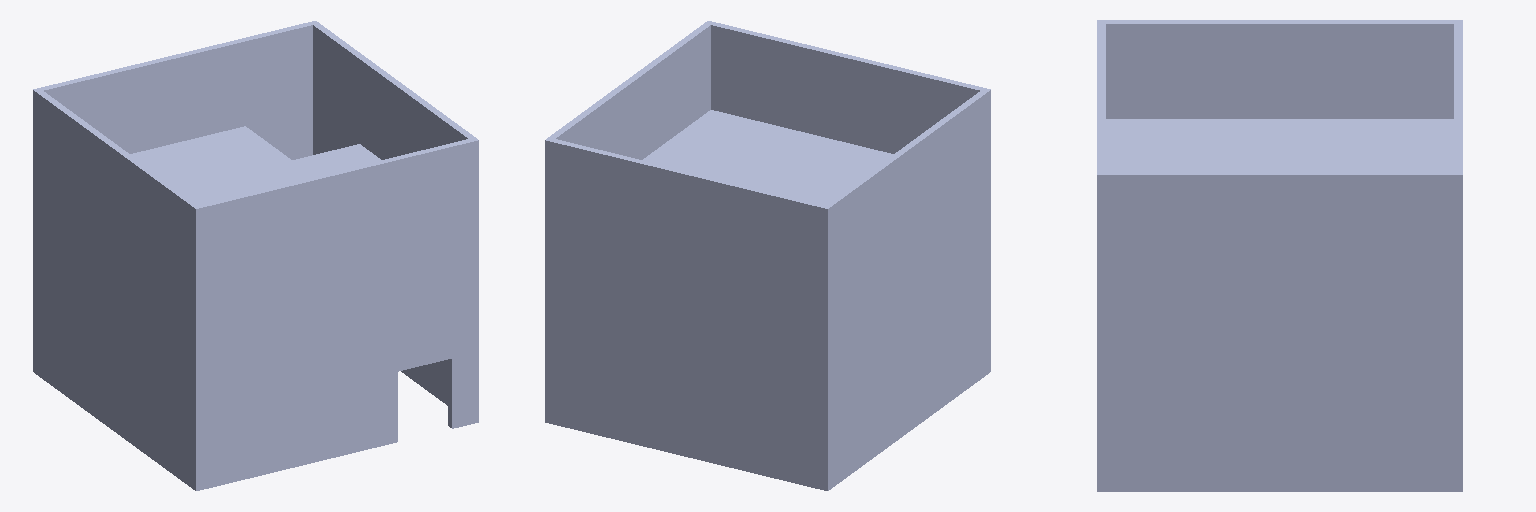
robot.urdf — flat_drone_env.SLDPRT:
<?xml version="1.0" encoding="utf-8"?>
<!-- This URDF was automatically created by SolidWorks to URDF Exporter! Originally created by [author] ([email redacted]) 
     Commit Version: 1.6.1-10-g22cb778-dirty  Build Version: 1.6.9106.26689
     For more information, please see http://wiki.ros.org/sw_urdf_exporter -->
<robot
  name="flat_drone_env.SLDPRT">
  <link
    name="flat_drone_env.SLDPRT">
    <inertial>
      <origin
        xyz="-4.9941 5.0699 5.0021"
        rpy="0 0 0" />
      <mass
        value="202830" />
      <inertia
        ixx="3674400"
        ixy="75961"
        ixz="15068"
        iyy="3688900"
        iyz="-54386.9999999999"
        izz="5053300" />
    </inertial>
    <visual>
      <origin
        xyz="0 0 0"
        rpy="1.5707963267949 0 0" />
      <geometry>
        <mesh
          filename="package://flat_drone_env.SLDPRT/meshes/flat_drone_env.SLDPRT.STL" />
      </geometry>
      <material
        name="">
        <color
          rgba="0.79216 0.81961 0.93333 1" />
        <texture
          filename="package://flat_drone_env.SLDPRT/textures/" />
      </material>
    </visual>
    <collision>
      <origin
        xyz="0 0 0"
        rpy="1.5707963267949 0 0" />
      <geometry>
        <mesh
          filename="package://flat_drone_env.SLDPRT/meshes/flat_drone_env.SLDPRT.STL" />
      </geometry>
    </collision>
  </link>
</robot>

--- What the picture shows (computed from the rendered views, not written in the file) ---
Views: 3 orthographic renders of the robot side by side, from view 1: azimuth 30°, elevation 25°; view 2: azimuth 150°, elevation 25°; view 3: azimuth 270°, elevation 25°.
Model flat_drone_env.SLDPRT with 1 links and 0 joints (none), rooted at flat_drone_env.SLDPRT, posed every joint at zero.
Links seen in each view (by area): view 1: flat_drone_env.SLDPRT; view 2: flat_drone_env.SLDPRT; view 3: flat_drone_env.SLDPRT.
Boxes of the visible links, <box> form: flat_drone_env.SLDPRT: <box>33,21,478,490</box>; flat_drone_env.SLDPRT: <box>545,21,990,490</box>; flat_drone_env.SLDPRT: <box>1097,20,1462,491</box>.
Size in the robot's own frame: 10.5 by 10.5 by 10 metres.
Meshes: 1 distinct files referenced, 1 mesh visuals loaded (1 binary STL).
